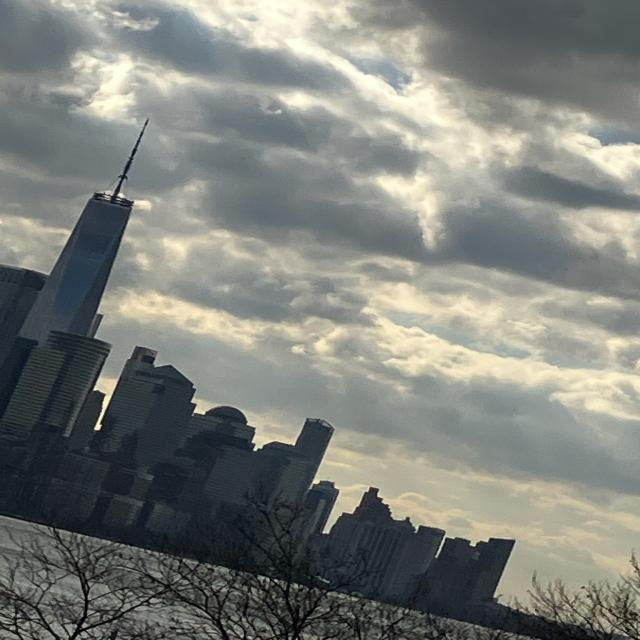WTC: (26, 114, 166, 339)
